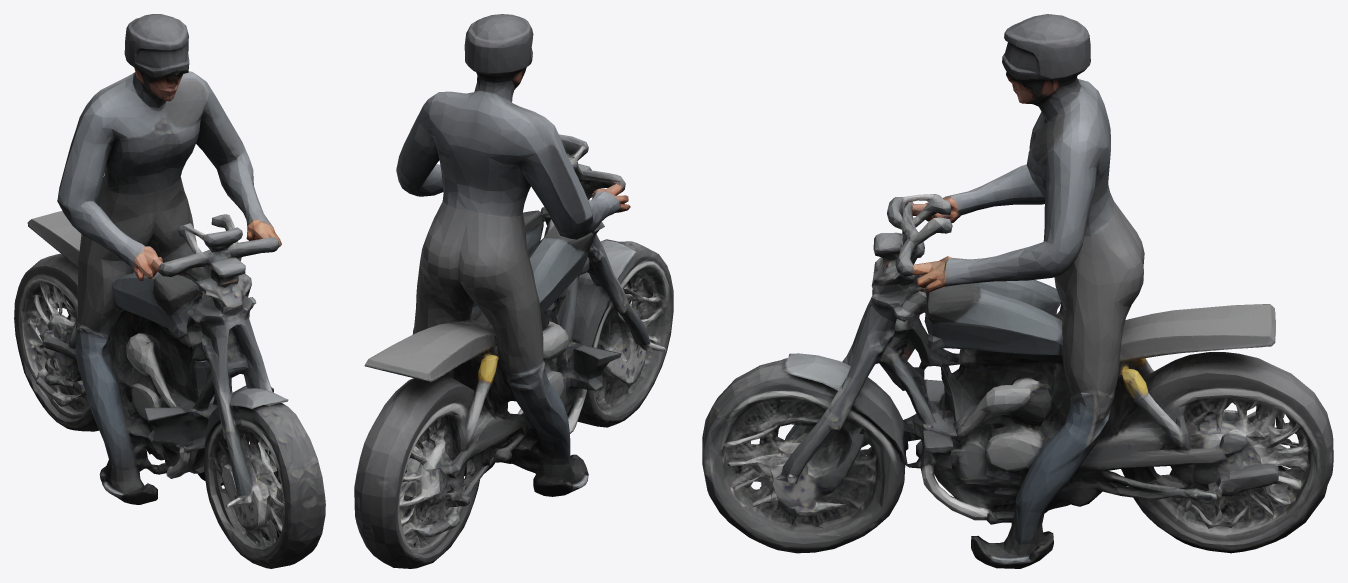
Rendered from scooter.glb.
3 renders of one model, left to right at view 1: azimuth 30°, elevation 25°; view 2: azimuth 150°, elevation 25°; view 3: azimuth 270°, elevation 25°, orthographic. The views are drawn at different scales.
Visible parts, largest first — view 1: world; view 2: world; view 3: world.
Boxes of the visible parts, left/top/right/bottom form: world: left=14, top=14, right=325, bottom=568; world: left=354, top=14, right=673, bottom=568; world: left=702, top=14, right=1333, bottom=568.
Bounding box in the file's own units: 0.3868 × 0.9287 × 0.9993.
1 material, 1 textured.
